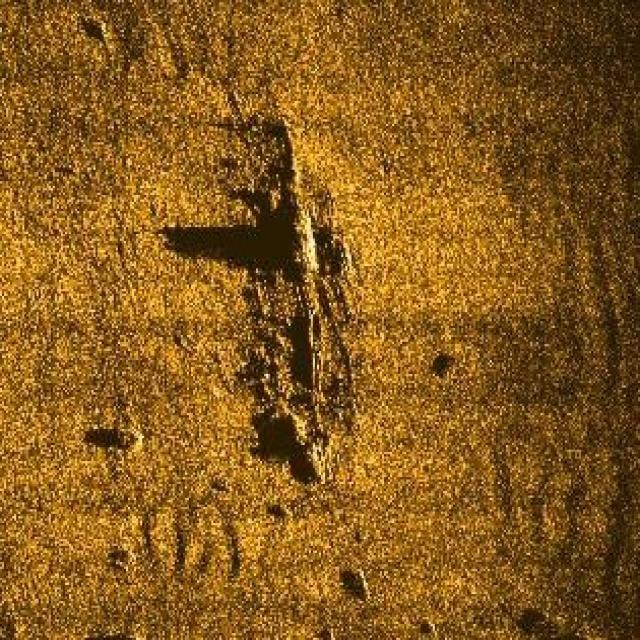shipwreck: (246, 112, 345, 482)
